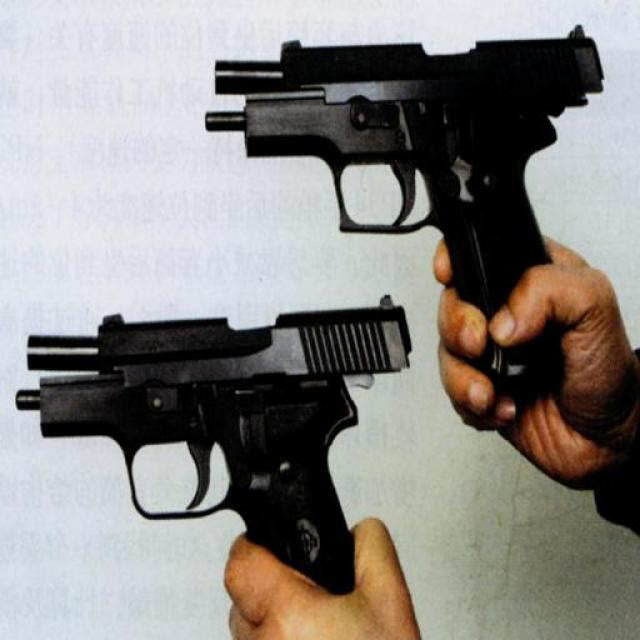pistol: (205, 24, 606, 398), (12, 294, 411, 604)
